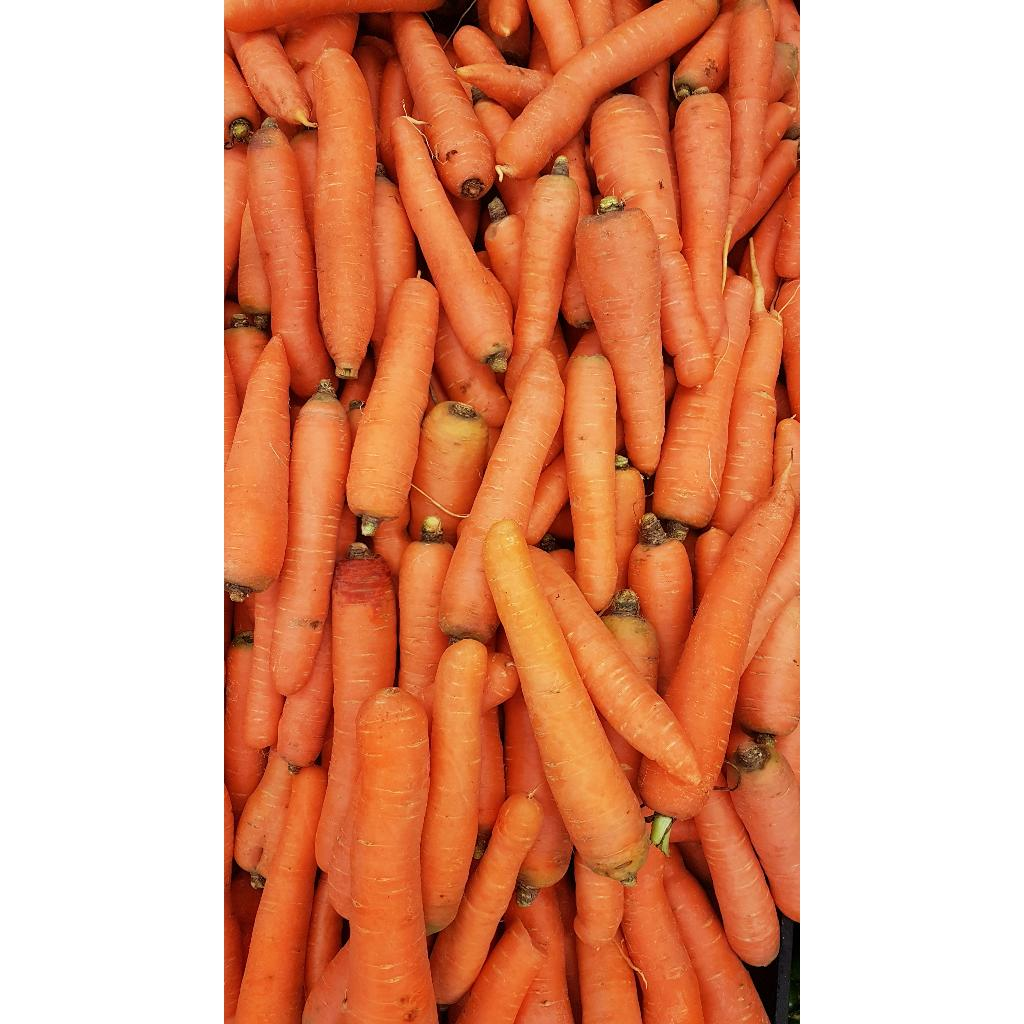carrot: (275, 44, 773, 989)
